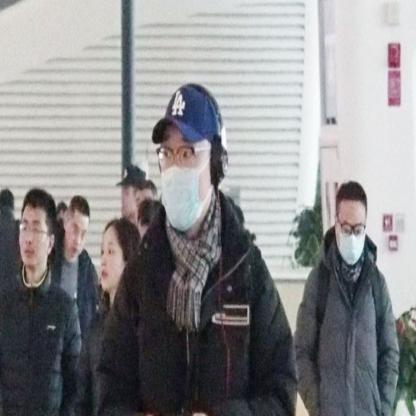Not_Wearing_Mask: (18, 216, 46, 266), (99, 235, 123, 289), (63, 220, 88, 262)
Wearing_Mask: (157, 130, 210, 231), (337, 215, 365, 264)
